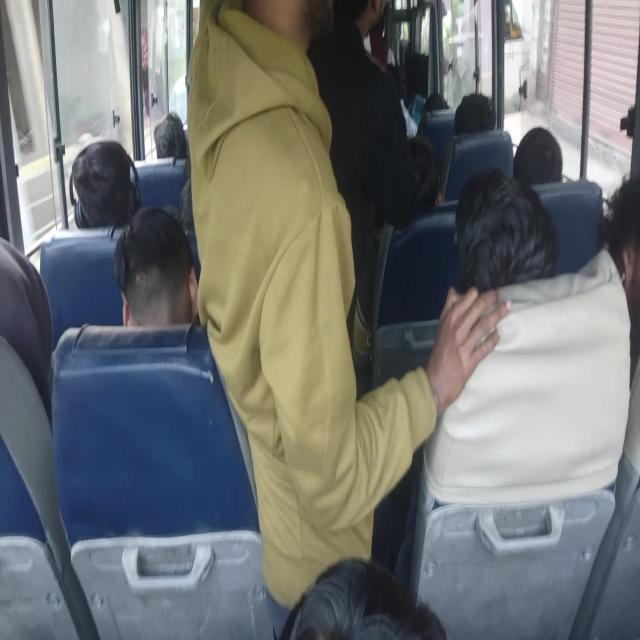person: (312, 0, 401, 158), (452, 168, 560, 296), (284, 556, 444, 636), (0, 232, 55, 429), (114, 206, 197, 329), (601, 170, 640, 387), (444, 92, 505, 186), (78, 159, 142, 227), (388, 145, 438, 216), (512, 126, 564, 188), (154, 112, 188, 161), (177, 170, 196, 245)
